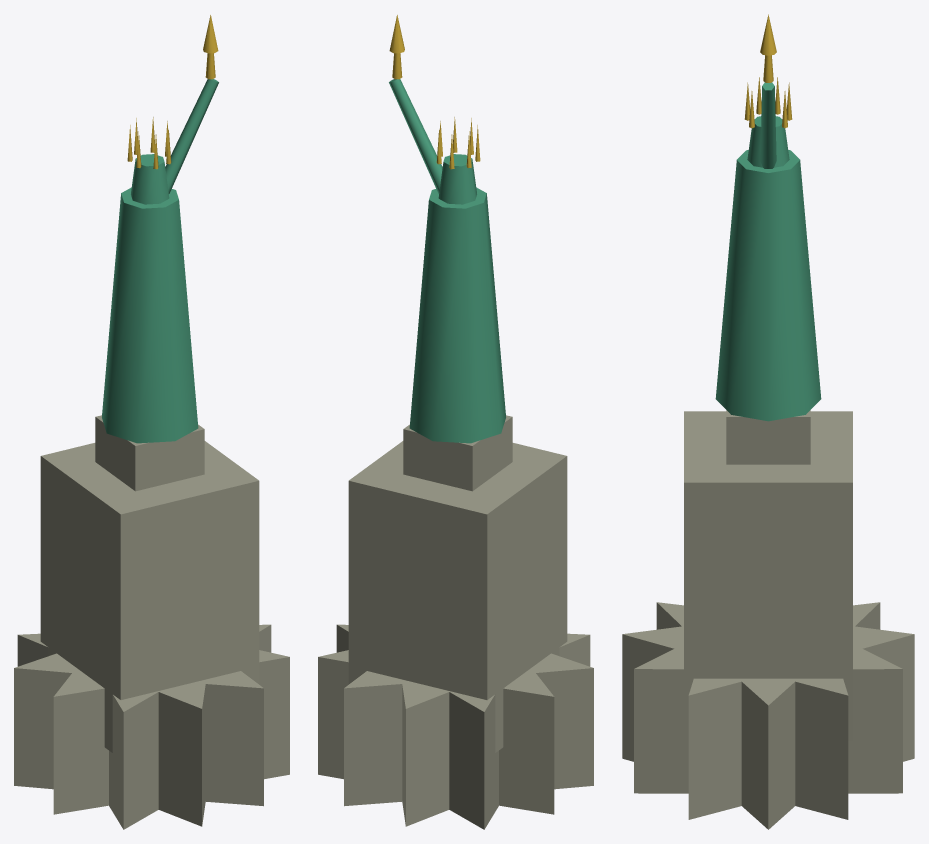
File: statue-of-liberty.glb
The picture shows the model from 3 angles, left to right: view 1: azimuth 30°, elevation 25°; view 2: azimuth 150°, elevation 25°; view 3: azimuth 270°, elevation 25°; orthographic projection. The views are drawn at different scales.
Bounding box in the file's own units: 27.43 × 82 × 27.72.
